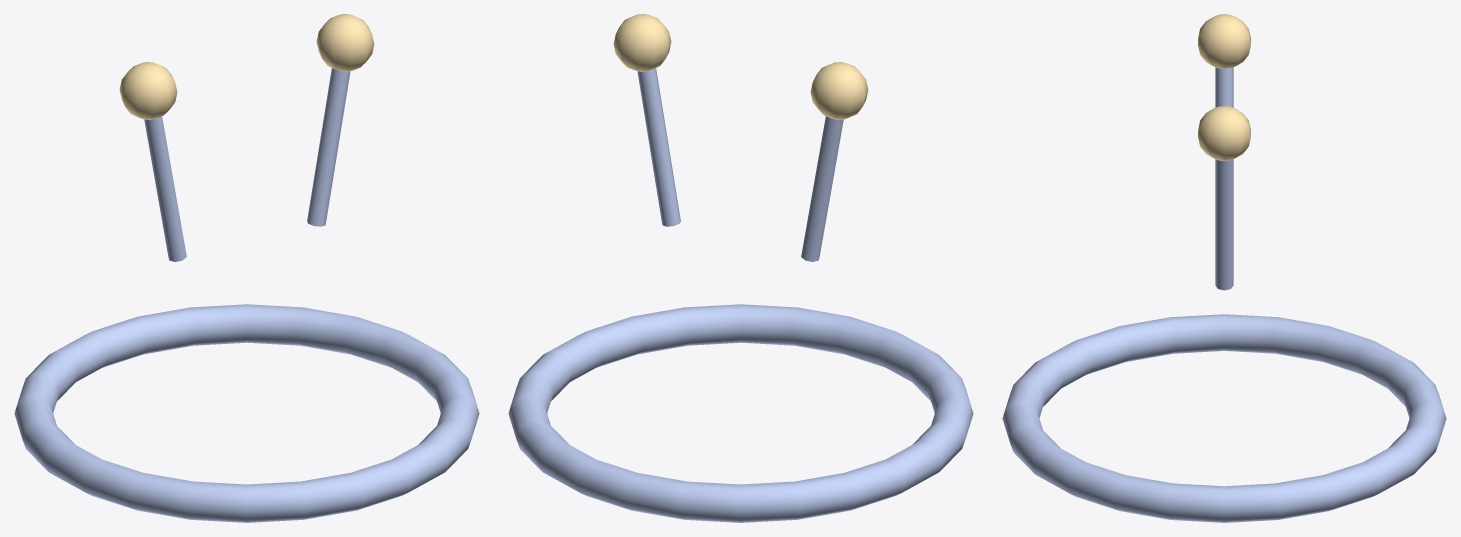
Rendered from antenna_headband.glb.
3 renders of one model, left to right at view 1: azimuth 30°, elevation 25°; view 2: azimuth 150°, elevation 25°; view 3: azimuth 270°, elevation 25°, orthographic. The views are drawn at different scales.
Visible parts, largest first — view 1: Antenna Headband; view 2: Antenna Headband; view 3: Antenna Headband.
Part boxes in pixels (box(x1,y1,x2,y2)): Antenna Headband: box(14, 14, 479, 522); Antenna Headband: box(508, 14, 973, 522); Antenna Headband: box(1002, 14, 1446, 522).
Size of the model in its own units: 0.72 by 0.6655 by 0.72.
